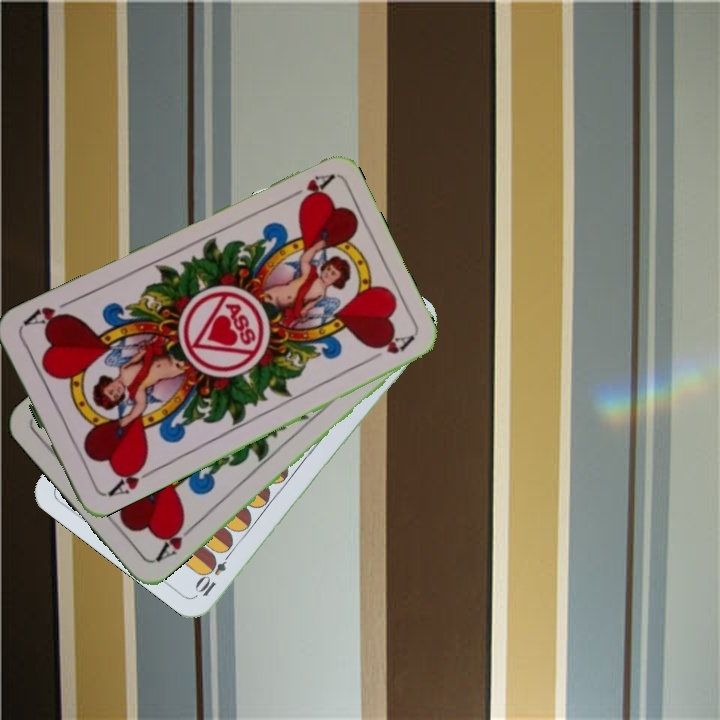E10: (193, 545, 235, 599)
HA: (100, 457, 155, 499), (151, 516, 198, 565), (279, 170, 335, 207)
